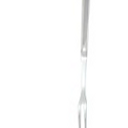fork: (67, 1, 101, 128)
